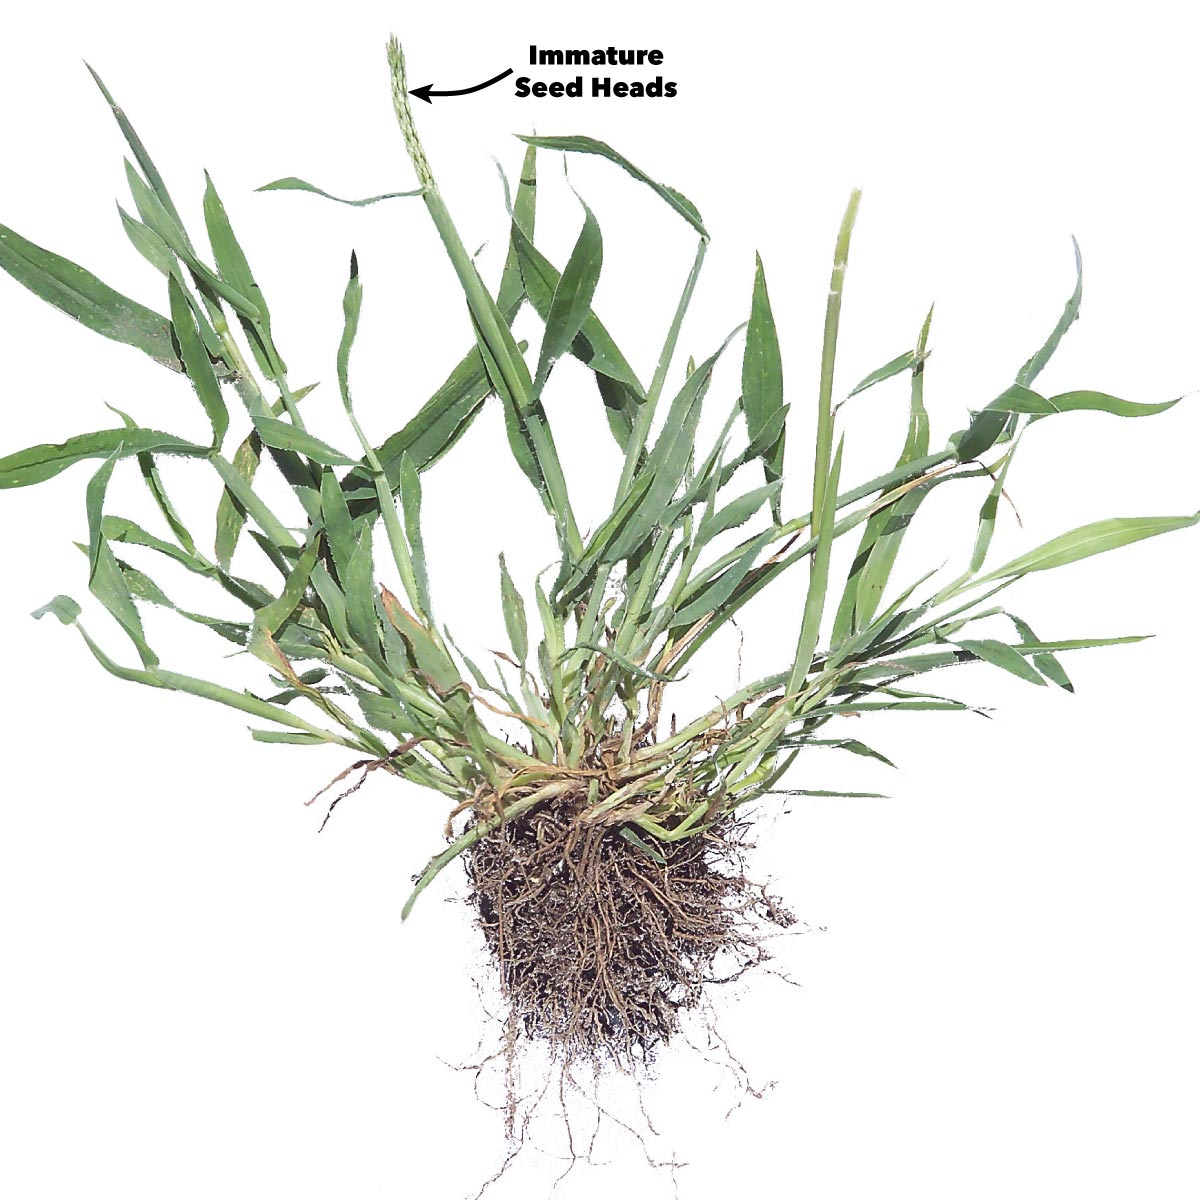crabgrass: (19, 127, 1166, 1096)
